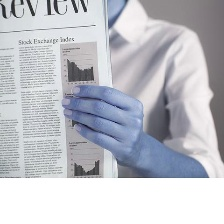news_paper: (0, 0, 122, 181)
